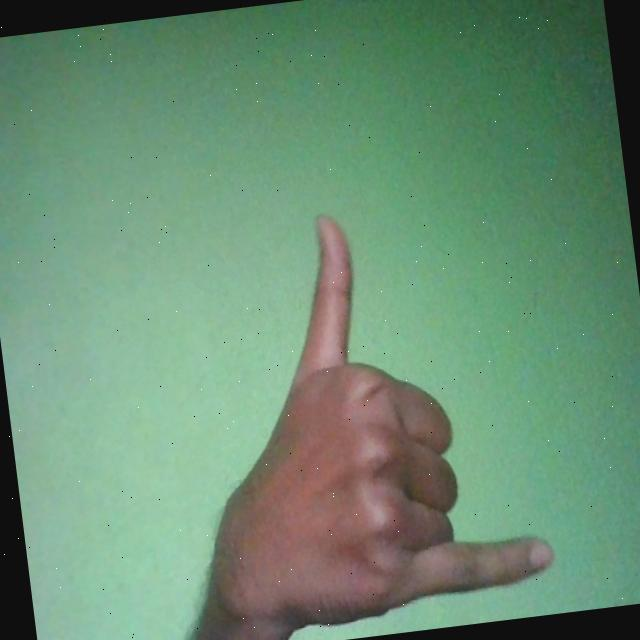Call Me: (161, 190, 558, 640)
